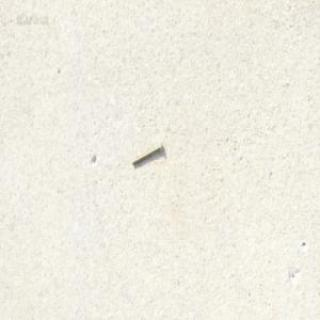Bolttrack_idkeyframe: (130, 141, 162, 165)
